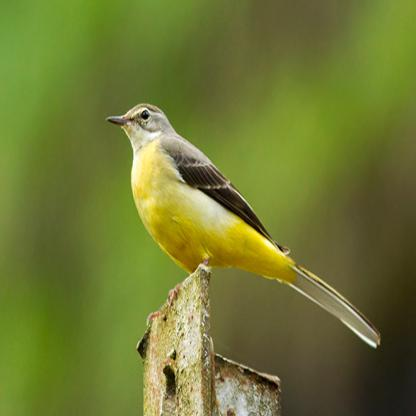Burung: (106, 102, 382, 354)
